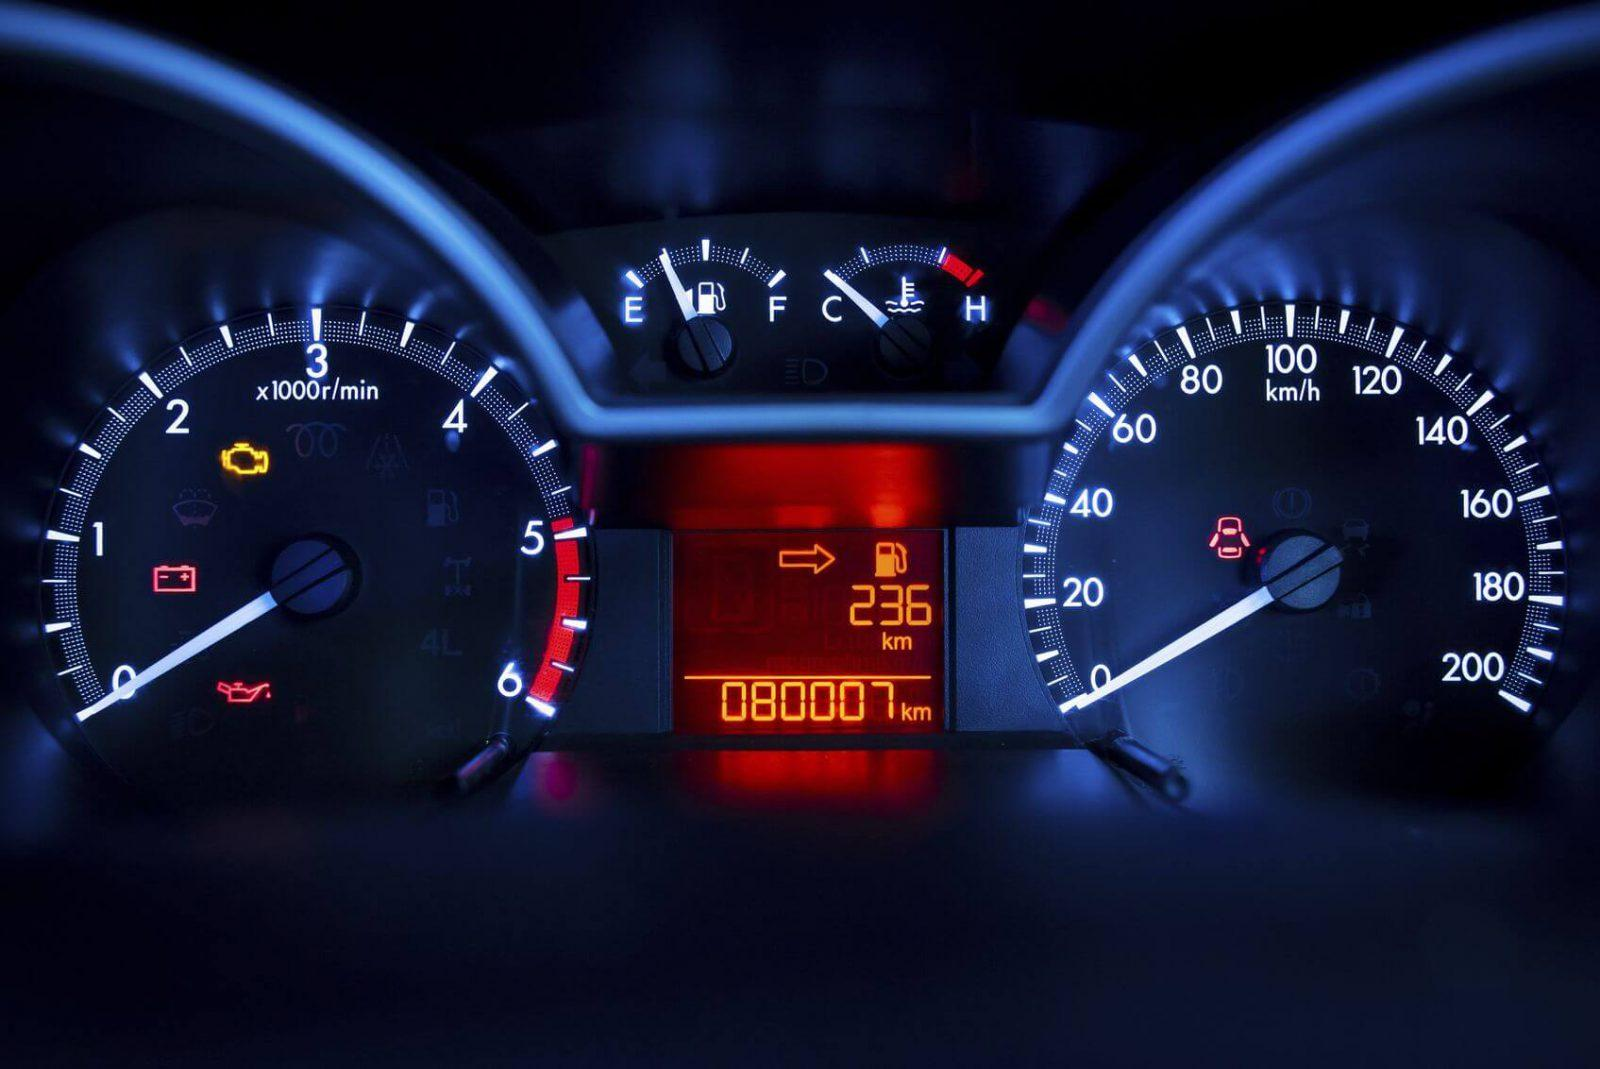Engine_emissions: (209, 433, 277, 484)
